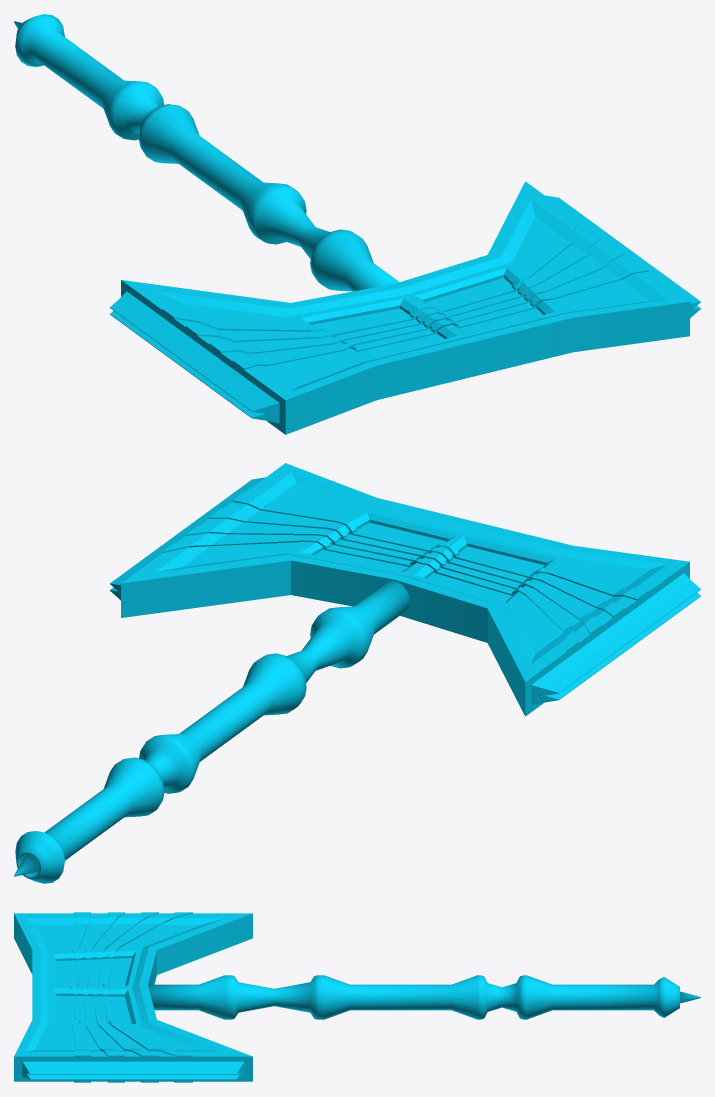
The model's file is DoubleAxeMain.fbx.
3 renders of one model, top to bottom at view 1: azimuth 30°, elevation 25°; view 2: azimuth 150°, elevation 25°; view 3: azimuth 270°, elevation 25°, orthographic. The views are drawn at different scales.
Parts seen in each view (by area): view 1: AxeHead_low, Axebase2_low; view 2: AxeHead_low, Axebase2_low; view 3: AxeHead_low, Axebase2_low.
Boxes of the visible parts, box(x1,y1,x2,y2) form: AxeHead_low: box(110, 181, 700, 434); Axebase2_low: box(14, 14, 399, 291); AxeHead_low: box(110, 463, 700, 716); Axebase2_low: box(14, 581, 409, 883); AxeHead_low: box(14, 912, 252, 1082); Axebase2_low: box(148, 975, 700, 1019).
Size of the model in its own units: 1017 by 119 by 1855.
